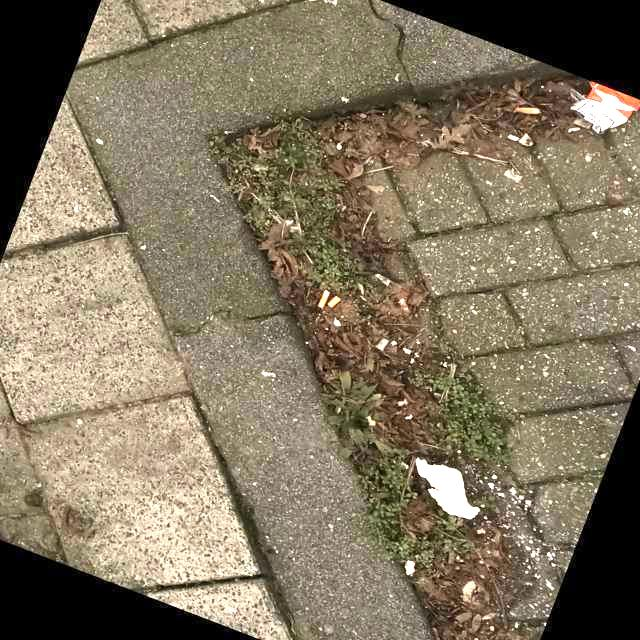Paper: (414, 457, 480, 521), (568, 79, 640, 135)
